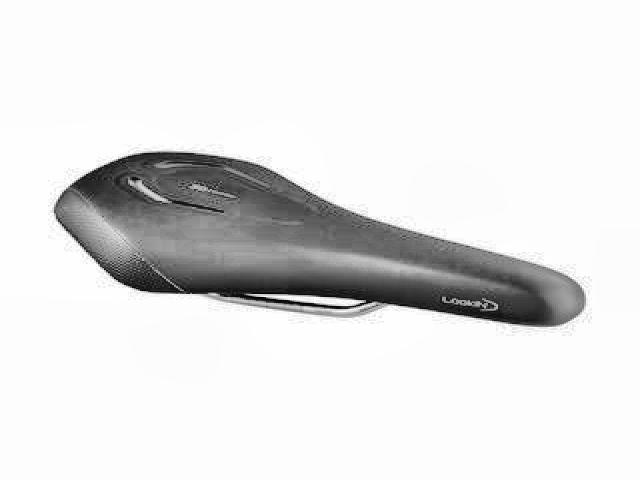saddle: (50, 148, 585, 329)
